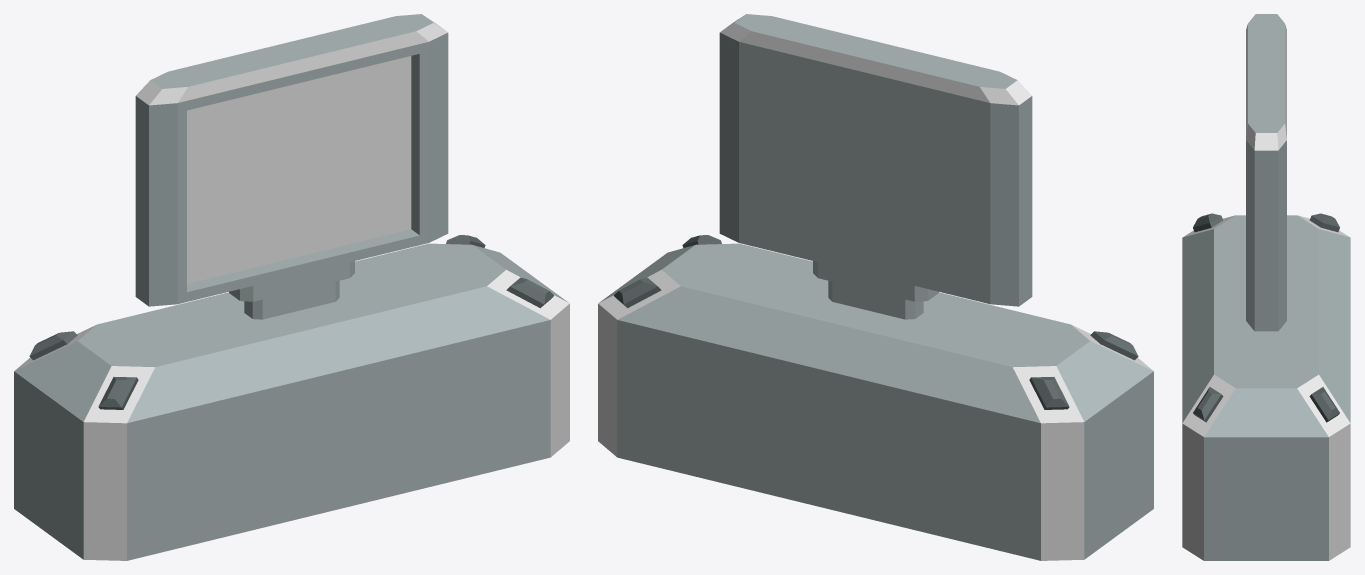
File: Television-2.fbx
3 renders of one model, left to right at view 1: azimuth 30°, elevation 25°; view 2: azimuth 150°, elevation 25°; view 3: azimuth 270°, elevation 25°, orthographic. The views are drawn at different scales.
Visible parts, largest first — view 1: Television-2; view 2: Television-2; view 3: Television-2.
Part boxes in pixels (x1=…): Television-2: x1=14, y1=14, x2=569, y2=560; Television-2: x1=598, y1=14, x2=1153, y2=560; Television-2: x1=1182, y1=14, x2=1350, y2=560.
Size of the model in its own units: 3 by 2.5 by 1.
